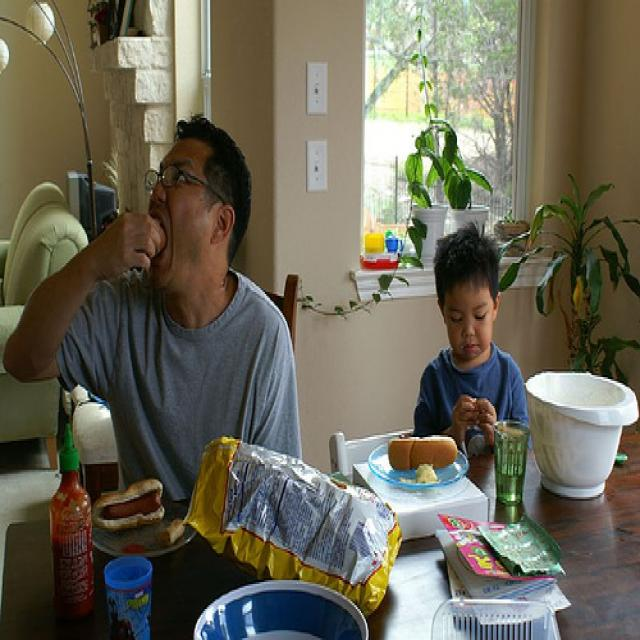chair: (327, 428, 413, 485), (266, 273, 300, 352)
dining table: (0, 367, 638, 634)
